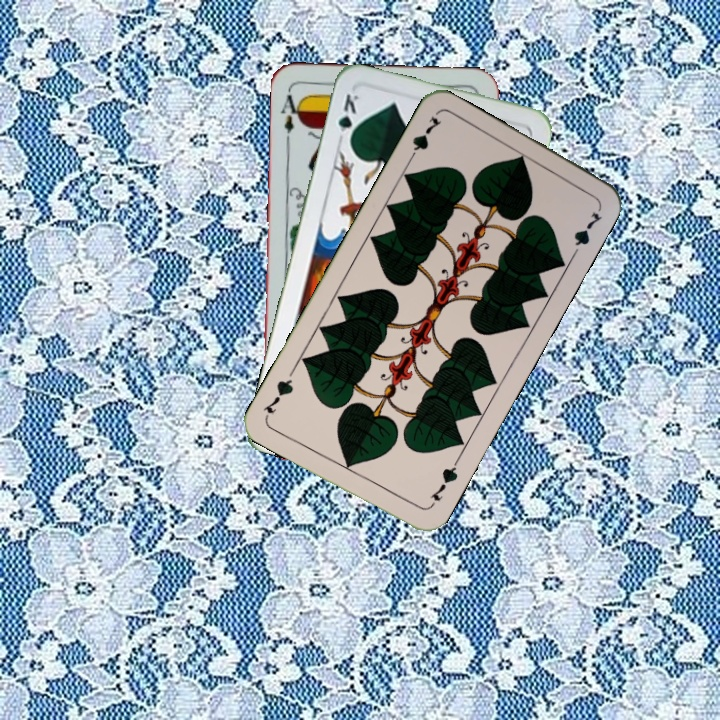EA: (277, 91, 304, 146)
G7: (404, 112, 445, 166), (426, 457, 461, 504)
GK: (333, 89, 364, 148)
